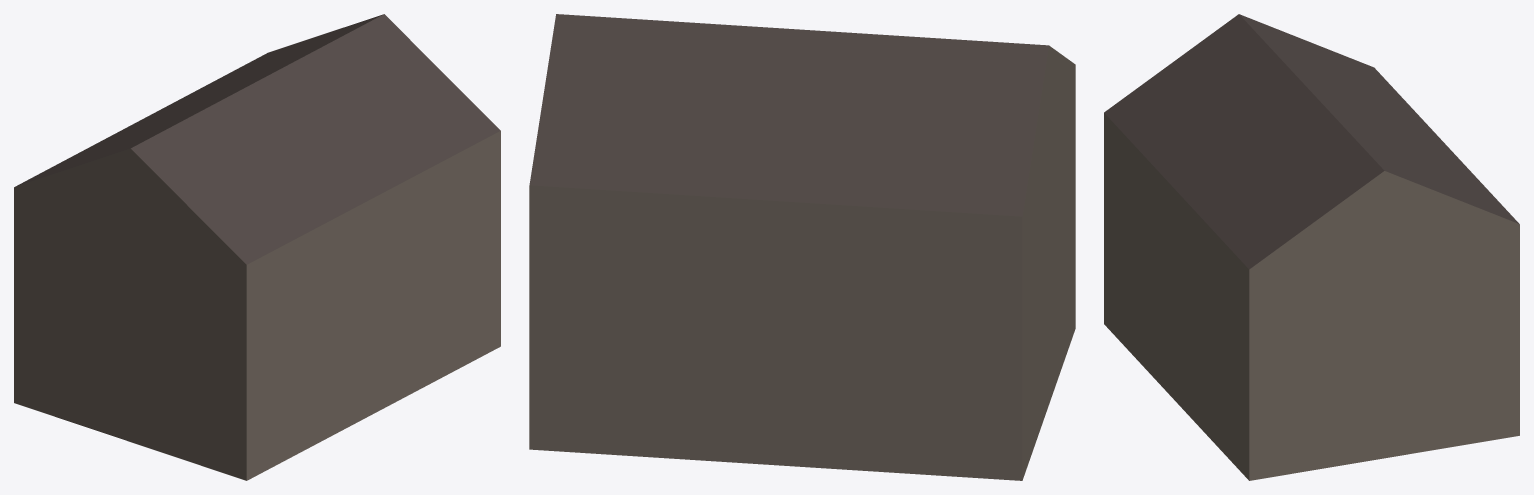
The picture shows the model from 3 angles, left to right: view 1: azimuth 30°, elevation 25°; view 2: azimuth 150°, elevation 25°; view 3: azimuth 270°, elevation 25°; orthographic projection. The views are drawn at different scales.
Parts seen in each view (by area): view 1: HP-w776800988; view 2: HP-w776800988; view 3: HP-w776800988.
Part boxes in pixels (x1,y1,x2,y2): HP-w776800988: (14, 14, 500, 480); HP-w776800988: (529, 14, 1075, 480); HP-w776800988: (1104, 14, 1519, 480).
Size of the model in its own units: 12.3 by 8.16 by 10.7.
